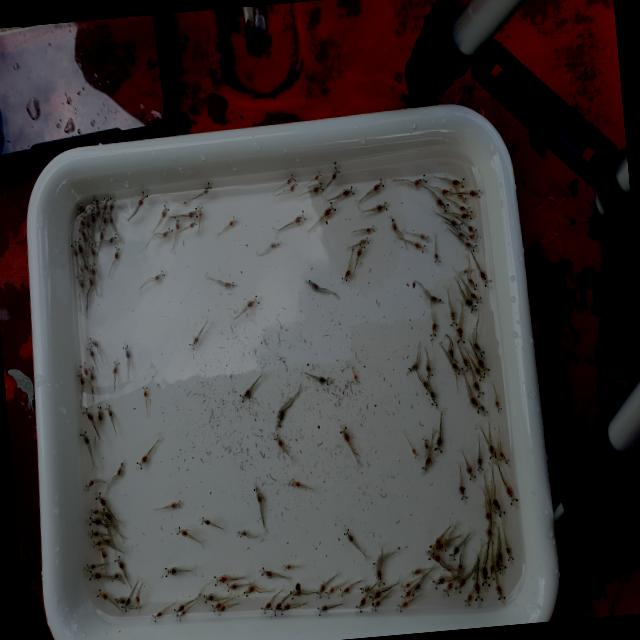babyshrimp: (480, 559, 493, 589), (321, 197, 338, 219), (467, 394, 484, 414), (491, 496, 505, 519), (472, 576, 484, 602), (505, 483, 519, 505), (477, 266, 491, 287), (275, 402, 285, 431), (163, 562, 181, 578), (453, 572, 466, 594), (292, 206, 307, 225), (476, 356, 490, 376), (112, 552, 126, 572), (472, 337, 485, 358), (212, 571, 228, 588), (246, 292, 261, 310), (434, 195, 449, 213), (428, 540, 444, 556), (338, 182, 355, 197), (463, 295, 477, 313), (460, 351, 472, 372), (472, 376, 484, 397), (354, 594, 367, 613), (172, 598, 185, 617), (374, 565, 385, 587), (309, 181, 325, 196), (457, 481, 469, 501), (270, 598, 282, 618), (114, 459, 126, 479), (371, 175, 385, 192), (413, 171, 427, 188), (93, 489, 107, 506), (421, 452, 432, 473), (120, 594, 132, 613), (431, 575, 446, 590), (449, 360, 463, 376), (95, 587, 111, 601), (342, 527, 355, 544), (238, 386, 251, 403), (81, 404, 94, 421), (449, 307, 459, 329), (487, 441, 498, 461), (433, 431, 443, 453), (504, 542, 515, 562), (495, 580, 506, 600), (329, 164, 341, 182), (136, 452, 148, 470), (424, 357, 434, 378), (168, 496, 183, 510), (150, 610, 164, 625), (307, 276, 320, 292), (375, 197, 388, 213), (427, 549, 443, 562), (78, 429, 91, 445), (137, 188, 148, 206), (473, 363, 484, 381), (463, 587, 474, 605), (412, 239, 426, 253), (429, 293, 443, 307), (450, 176, 465, 189), (449, 216, 462, 231), (468, 288, 481, 303), (368, 588, 381, 603), (175, 524, 190, 537), (88, 568, 103, 581), (407, 358, 419, 374), (448, 544, 460, 560), (400, 585, 412, 601), (422, 377, 432, 396), (466, 462, 476, 481), (252, 486, 262, 505), (78, 360, 88, 379), (499, 447, 510, 464), (85, 343, 96, 360), (288, 587, 302, 600), (259, 565, 272, 579), (278, 601, 291, 615), (73, 235, 83, 253), (456, 323, 465, 343), (443, 578, 453, 596), (100, 506, 112, 521), (188, 334, 199, 350), (466, 274, 477, 290), (371, 596, 382, 612), (339, 425, 350, 441), (273, 432, 284, 448), (84, 477, 95, 493), (430, 387, 439, 406), (121, 341, 130, 360), (316, 581, 326, 598), (316, 603, 329, 616), (161, 223, 173, 237), (153, 268, 165, 282), (455, 190, 467, 204), (243, 582, 255, 596), (225, 580, 239, 592), (210, 600, 222, 614), (463, 240, 478, 251), (161, 200, 170, 218), (98, 543, 107, 561), (355, 241, 365, 257), (396, 599, 408, 612), (290, 476, 303, 488), (338, 584, 350, 597), (202, 592, 215, 604), (175, 609, 187, 622), (187, 205, 198, 219), (467, 187, 481, 198), (324, 584, 335, 598), (341, 265, 350, 282), (429, 320, 438, 337), (104, 402, 113, 419), (498, 550, 506, 569), (285, 171, 295, 186), (87, 515, 102, 525), (69, 241, 78, 257), (289, 177, 298, 193), (134, 592, 142, 610), (108, 571, 120, 583), (85, 561, 97, 573), (88, 527, 100, 539), (112, 358, 120, 376), (467, 223, 478, 236), (260, 601, 271, 614), (216, 603, 227, 616), (76, 271, 84, 288), (88, 259, 96, 276), (76, 371, 85, 386), (88, 203, 95, 222), (476, 452, 483, 471), (268, 238, 280, 249), (460, 209, 472, 220), (488, 558, 494, 580), (281, 561, 294, 571), (88, 333, 98, 346), (203, 180, 212, 194), (457, 204, 471, 213), (420, 436, 429, 450), (359, 582, 370, 593), (237, 528, 248, 539), (108, 196, 116, 211), (317, 375, 329, 385), (114, 594, 126, 604), (98, 224, 105, 241), (87, 364, 94, 381), (108, 231, 117, 244), (228, 214, 237, 227), (97, 403, 103, 422), (102, 196, 109, 212), (494, 396, 501, 412), (411, 444, 419, 458), (77, 203, 87, 214), (410, 566, 420, 577), (401, 580, 411, 591), (200, 515, 211, 525), (222, 280, 234, 289), (141, 383, 148, 398), (314, 169, 322, 182), (92, 538, 102, 548), (188, 217, 197, 228), (390, 216, 397, 230), (432, 251, 440, 263), (353, 371, 360, 384), (114, 244, 120, 259), (174, 215, 180, 230), (365, 223, 374, 233), (360, 234, 369, 244), (419, 232, 428, 241), (89, 507, 99, 515), (197, 204, 203, 217)
